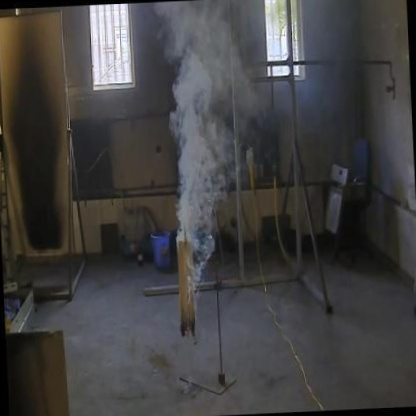smoke: (143, 0, 244, 289)
